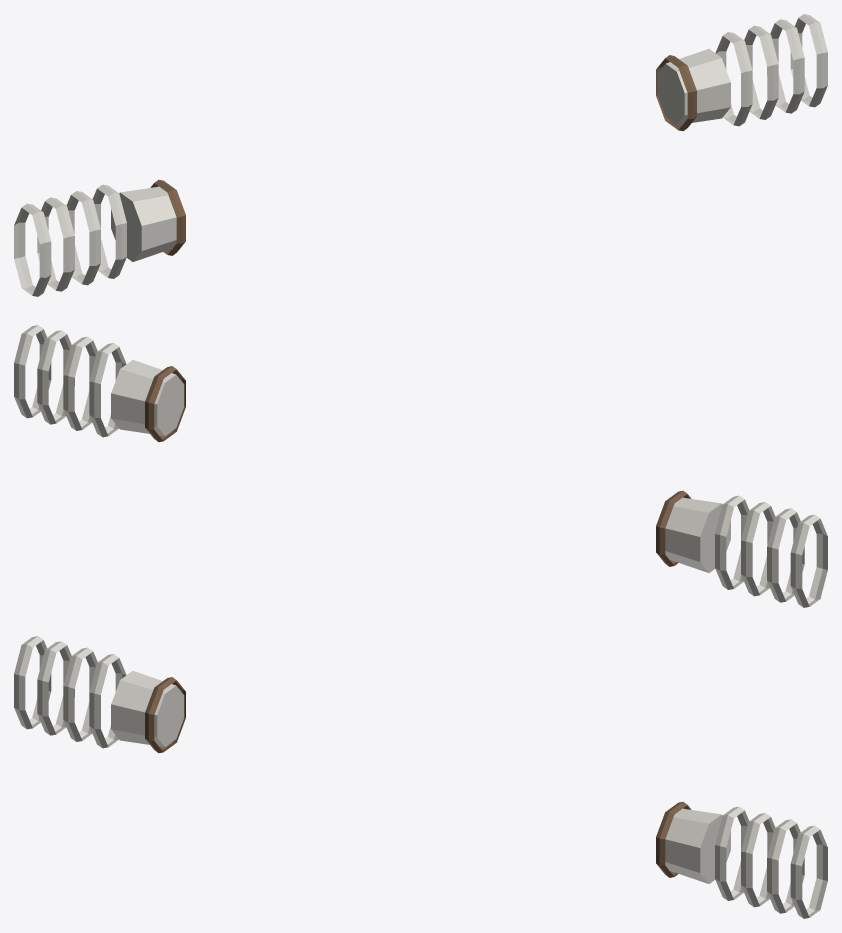
File: handwraps.glb
3 views of the same model, one above another, from view 1: azimuth 30°, elevation 25°; view 2: azimuth 150°, elevation 25°; view 3: azimuth 330°, elevation 25° (orthographic).
Visible parts, largest first — view 1: LowerArmL, Fist1L, Fist1R, LowerArmR, Fist2R, Fist2L; view 2: LowerArmL, Fist1L, Fist1R, LowerArmR, Fist2R, Fist2L; view 3: LowerArmR, Fist1R, Fist1L, LowerArmL, Fist2L, Fist2R.
Part boxes in pixels (x1,y1,x2,y2): LowerArmL: (656, 49, 730, 131); Fist1L: (715, 19, 804, 126); Fist1R: (37, 184, 126, 291); LowerArmR: (111, 179, 185, 261); Fist2R: (14, 203, 51, 296); Fist2L: (790, 14, 827, 107); LowerArmL: (111, 360, 185, 442); Fist1L: (37, 330, 126, 437); Fist1R: (715, 495, 804, 602); LowerArmR: (656, 490, 730, 572); Fist2R: (790, 514, 827, 607); Fist2L: (14, 325, 51, 418); LowerArmR: (111, 671, 185, 753); Fist1R: (37, 641, 126, 748); Fist1L: (715, 806, 804, 913); LowerArmL: (656, 801, 730, 883); Fist2L: (790, 825, 827, 918); Fist2R: (14, 636, 51, 729).
Size of the model in its own units: 3.02 by 0.3156 by 0.223.
